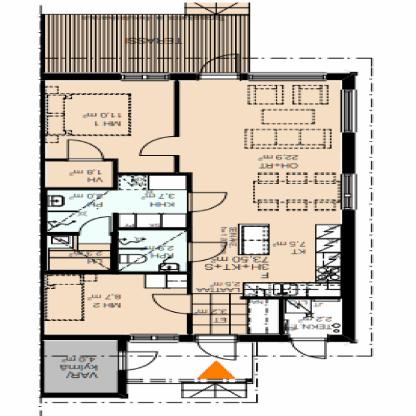door: (195, 336, 240, 364), (63, 138, 108, 164), (290, 337, 333, 363), (199, 54, 244, 78), (148, 294, 195, 315), (137, 136, 181, 158), (186, 242, 232, 262), (114, 353, 164, 371), (186, 194, 228, 213), (74, 216, 116, 234)
window: (342, 91, 356, 133), (254, 74, 327, 81), (343, 176, 356, 210), (119, 73, 170, 81)
zone: (177, 80, 334, 296), (47, 176, 189, 270), (44, 82, 175, 174), (45, 16, 251, 72), (44, 274, 192, 338), (196, 295, 347, 335), (46, 342, 117, 392), (44, 162, 112, 188)
